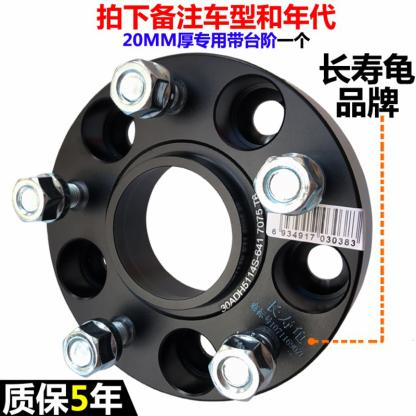FOD: (45, 47, 376, 408)
